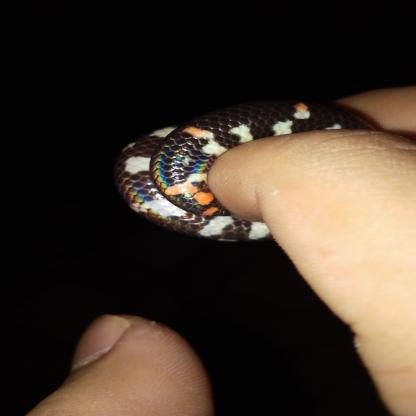Snake: (103, 100, 325, 240)
